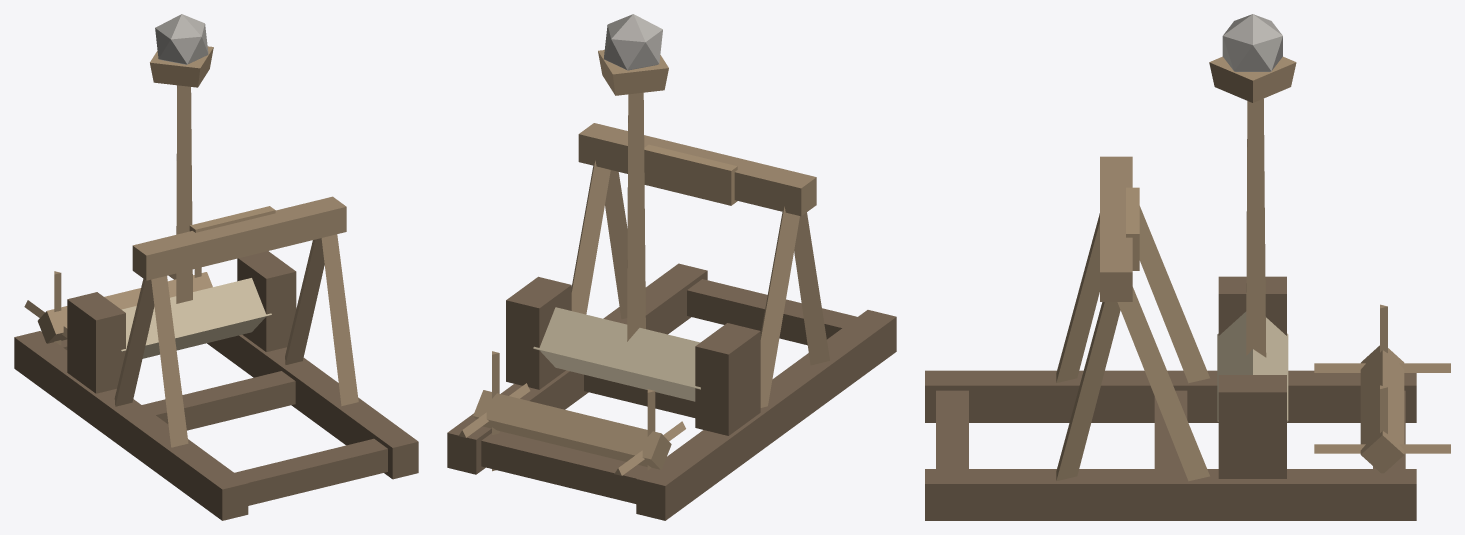
Rendered from mangonel_lod.glb.
3 renders of one model, left to right at view 1: azimuth 30°, elevation 25°; view 2: azimuth 150°, elevation 25°; view 3: azimuth 270°, elevation 25°, orthographic. The views are drawn at different scales.
Parts seen in each view (by area): view 1: Frame, ArmBeam, Winch, Stone; view 2: Frame, Winch, ArmBeam, Stone; view 3: Frame, Winch, ArmBeam, Stone.
Part boxes in pixels (x1=…): Frame: x1=14, y1=196, x2=418, y2=520; ArmBeam: x1=150, y1=46, x2=213, y2=303; Winch: x1=24, y1=267, x2=212, y2=345; Stone: x1=155, y1=14, x2=208, y2=64; Frame: x1=447, y1=123, x2=896, y2=520; Winch: x1=459, y1=351, x2=685, y2=475; ArmBeam: x1=598, y1=50, x2=668, y2=341; Stone: x1=603, y1=14, x2=662, y2=70; Frame: x1=925, y1=156, x2=1416, y2=520; Winch: x1=1314, y1=304, x2=1450, y2=473; ArmBeam: x1=1209, y1=56, x2=1296, y2=357; Stone: x1=1222, y1=14, x2=1282, y2=71.
Size of the model in its own units: 2 by 3.69 by 3.85.
